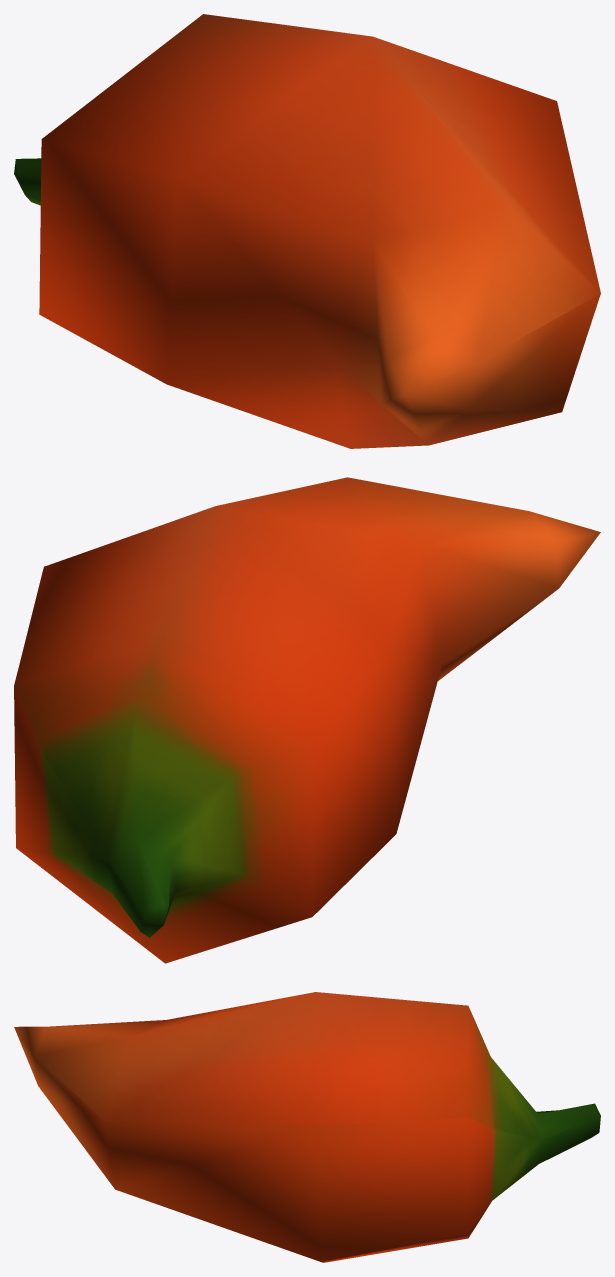
File: SM_PROP_food_chili_04.FBX
3 views of the same model, one above another, from view 1: azimuth 30°, elevation 25°; view 2: azimuth 150°, elevation 25°; view 3: azimuth 270°, elevation 25° (orthographic). The views are drawn at different scales.
Visible parts, largest first — view 1: SM_PROP_food_chili_04; view 2: SM_PROP_food_chili_04; view 3: SM_PROP_food_chili_04.
Part boxes in pixels (x1,y1,x2,y2): SM_PROP_food_chili_04: (14,14,600,448); SM_PROP_food_chili_04: (14,477,600,963); SM_PROP_food_chili_04: (14,992,600,1262).
Bounding box in the file's own units: 16.68 × 31.33 × 16.27.
